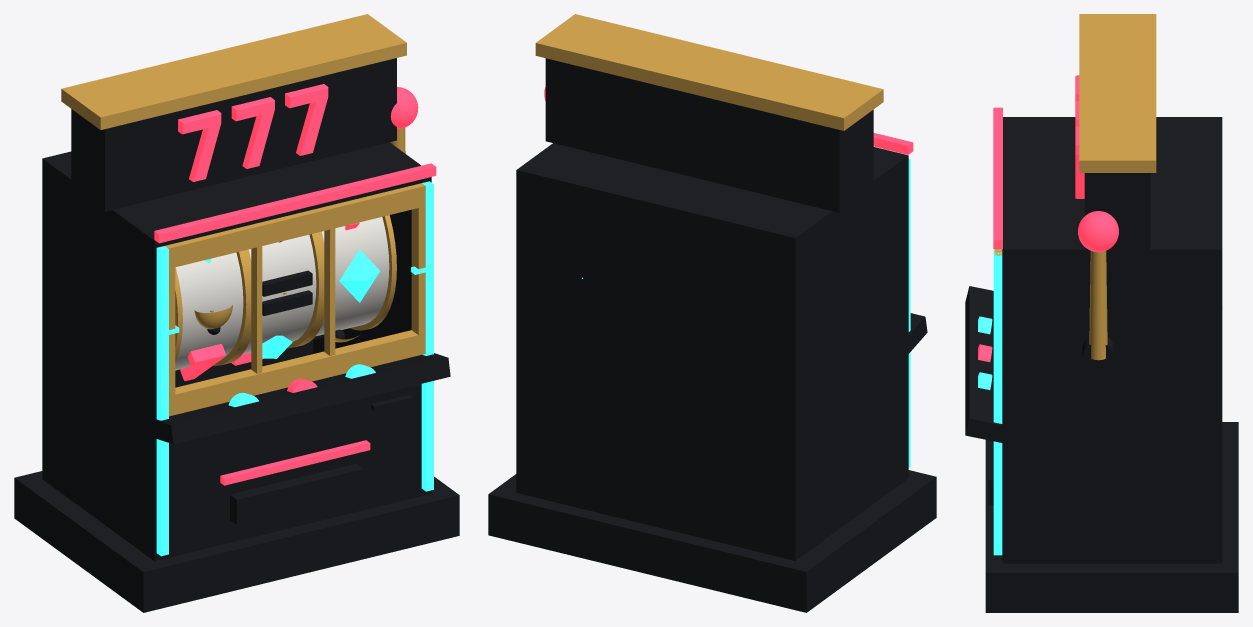
File: lucky-7-slot-machine.glb
3 renders of one model, left to right at view 1: azimuth 30°, elevation 25°; view 2: azimuth 150°, elevation 25°; view 3: azimuth 270°, elevation 25°, orthographic. The views are drawn at different scales.
Visible parts, largest first — view 1: cabinet_side_left, plinth, marquee, cabinet_front_lower, marquee_crown, cabinet_top, control_shelf, bezel_bottom, bezel_top, cabinet_bottom, reel_0_drum, payout_tray (+23 smaller); view 2: cabinet_back, cabinet_side_left, marquee, plinth, marquee_crown, cabinet_top, cabinet_bottom, cabinet_side_right, neon_edge_l, control_shelf; view 3: cabinet_side_right, cabinet_top, plinth, marquee_crown, cabinet_back, marquee, control_shelf, neon_edge_r, cabinet_front_upper, lever_arm, neon_marquee_bar, cabinet_bottom (+6 smaller).
Part boxes in pixels (x1,y1,x2,y2): cabinet_side_left: (42,158,168,561); plinth: (14,471,459,612); marquee: (71,58,396,211); cabinet_front_lower: (147,385,430,560); marquee_crown: (61,14,406,129); cabinet_top: (52,142,430,254); control_shelf: (137,353,450,444); bezel_bottom: (169,330,425,416); bezel_top: (160,183,425,268); cabinet_bottom: (47,471,430,560); reel_0_drum: (175,252,243,370); payout_tray: (230,464,363,524); cabinet_back: (516,168,803,560); cabinet_side_left: (781,154,908,559); marquee: (545,58,873,212); plinth: (488,470,936,612); marquee_crown: (535,14,883,130); cabinet_top: (516,143,908,252); cabinet_bottom: (531,464,908,559); cabinet_side_right: (516,143,561,496); neon_edge_l: (908,159,910,467); control_shelf: (889,313,927,369); cabinet_side_right: (1002,242,1222,563); cabinet_top: (1002,117,1222,264); plinth: (985,422,1238,612); marquee_crown: (1079,14,1156,172); cabinet_back: (1205,117,1222,563); marquee: (1084,173,1150,252); control_shelf: (965,286,1002,442); neon_edge_r: (993,252,1002,555); cabinet_front_upper: (1002,117,1018,265); lever_arm: (1089,251,1107,360); neon_marquee_bar: (993,107,1002,248); cabinet_bottom: (1002,549,1222,563).
Bounding box in the file's own units: 1.35 × 1.8 × 0.9945.
